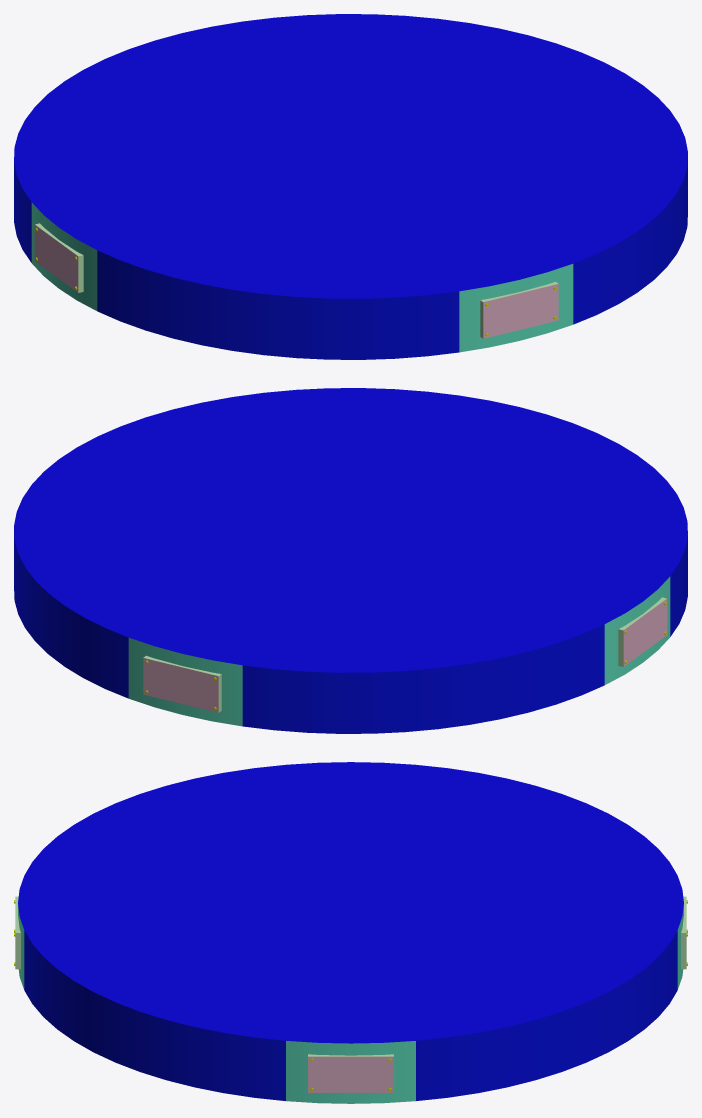
3 renders of one model, top to bottom at view 1: azimuth 30°, elevation 25°; view 2: azimuth 150°, elevation 25°; view 3: azimuth 270°, elevation 25°, orthographic.
Visible parts, largest first — view 1: wheel; view 2: wheel; view 3: wheel.
Boxes of the visible parts, box(x1,y1,x2,y2) form: wheel: box(14, 14, 687, 359); wheel: box(14, 388, 687, 733); wheel: box(14, 762, 687, 1103).
Bounding box in the file's own units: 5.06 × 0.5 × 5.06.
